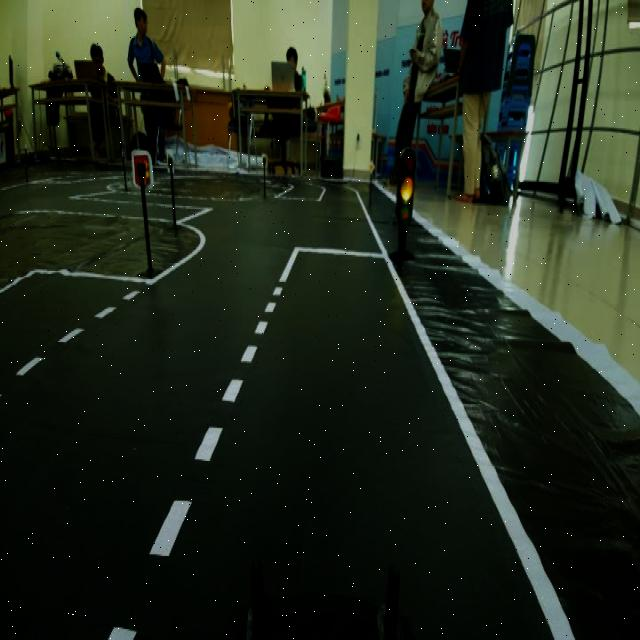trafficlight: (386, 144, 427, 276)
